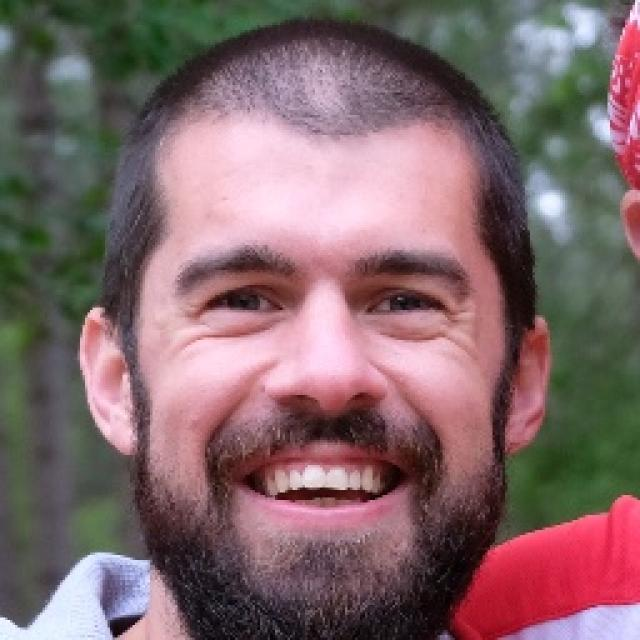earlobe: (80, 306, 141, 455), (495, 316, 553, 455)
